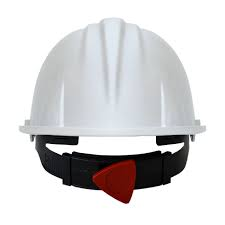Casco de seguridad: (18, 16, 210, 208)
